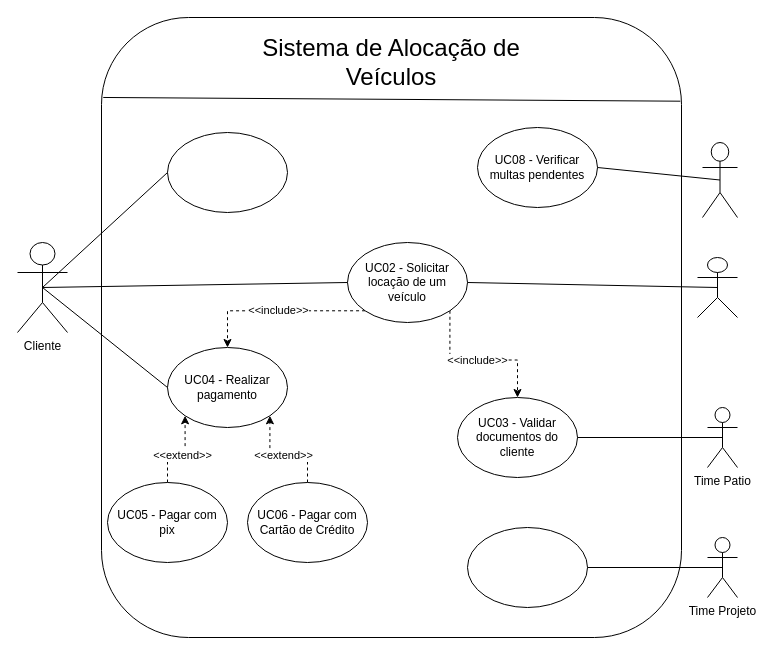
Image size: 774x655. Some labels were removed from this diagram. Each missing label, with the box of its shape:
Atendente: (696, 256, 738, 318)
Detran: (702, 142, 738, 218)
UC01 - Se cadastrar no sistema: (166, 132, 288, 212)
UC07 - Definir categorias: (466, 526, 588, 608)
